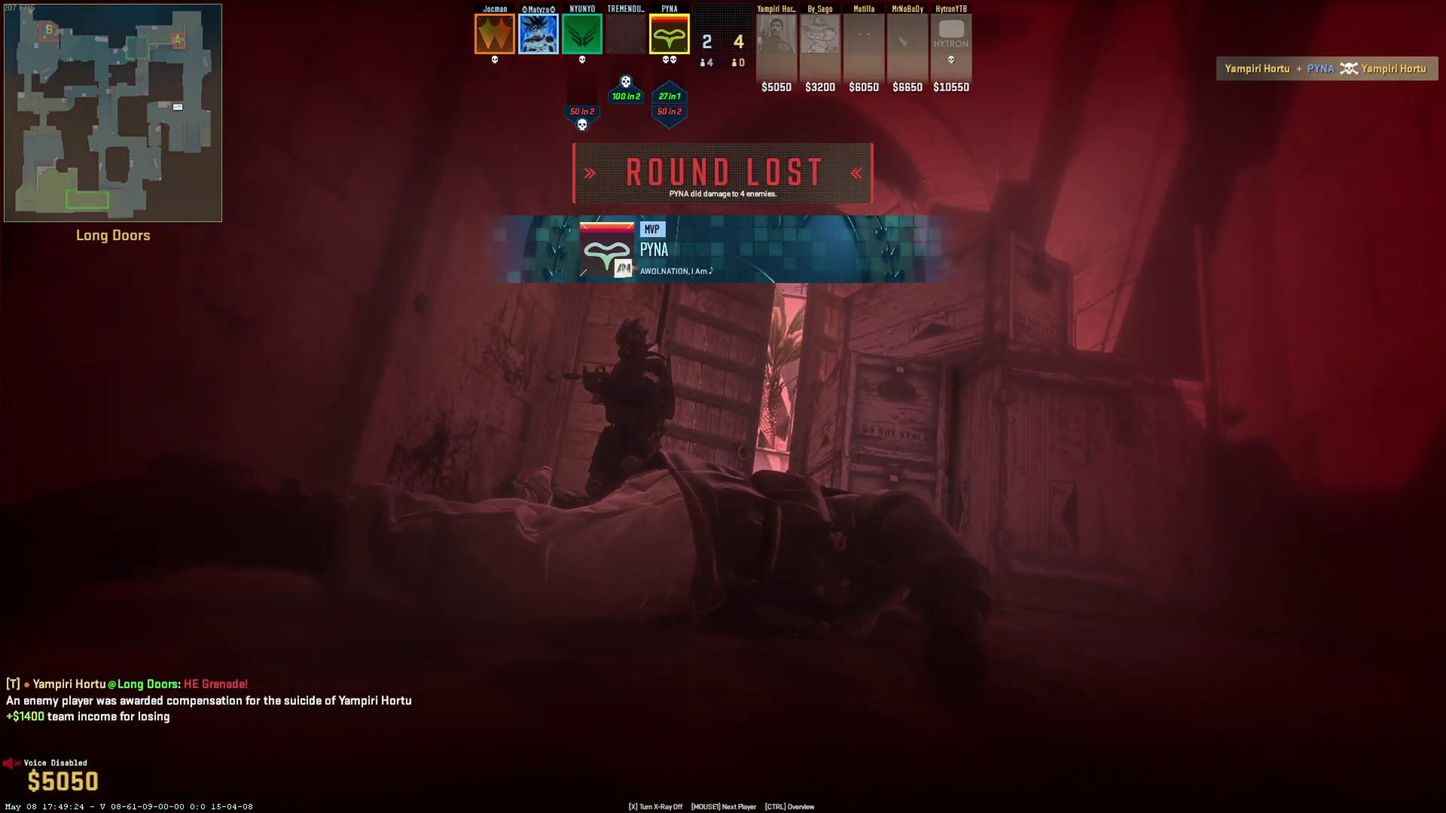CT: (589, 319, 669, 488)
